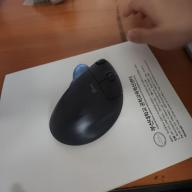mouse: (49, 59, 124, 147)
